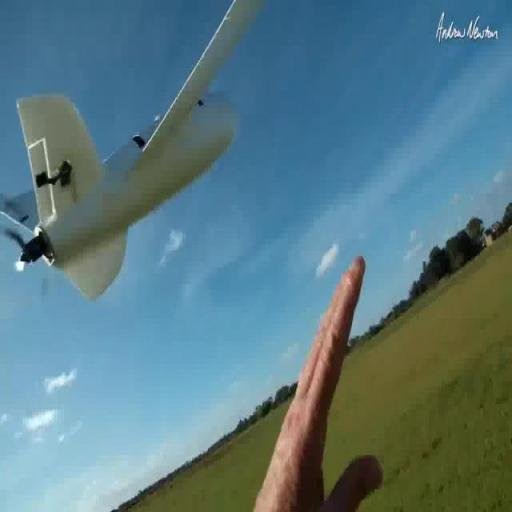uav: (0, 1, 267, 326)
